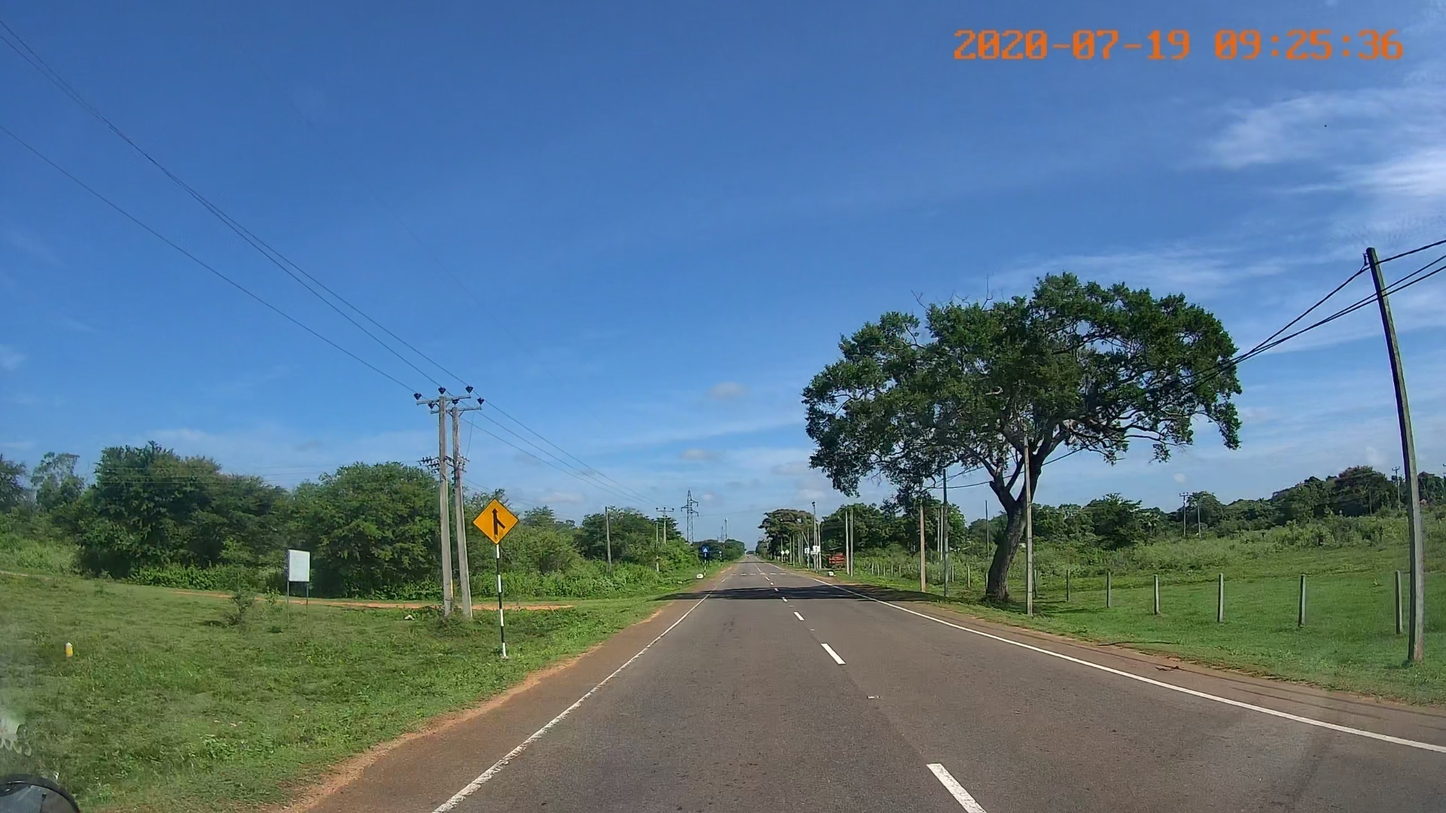DWS-19: (473, 497, 521, 547)
